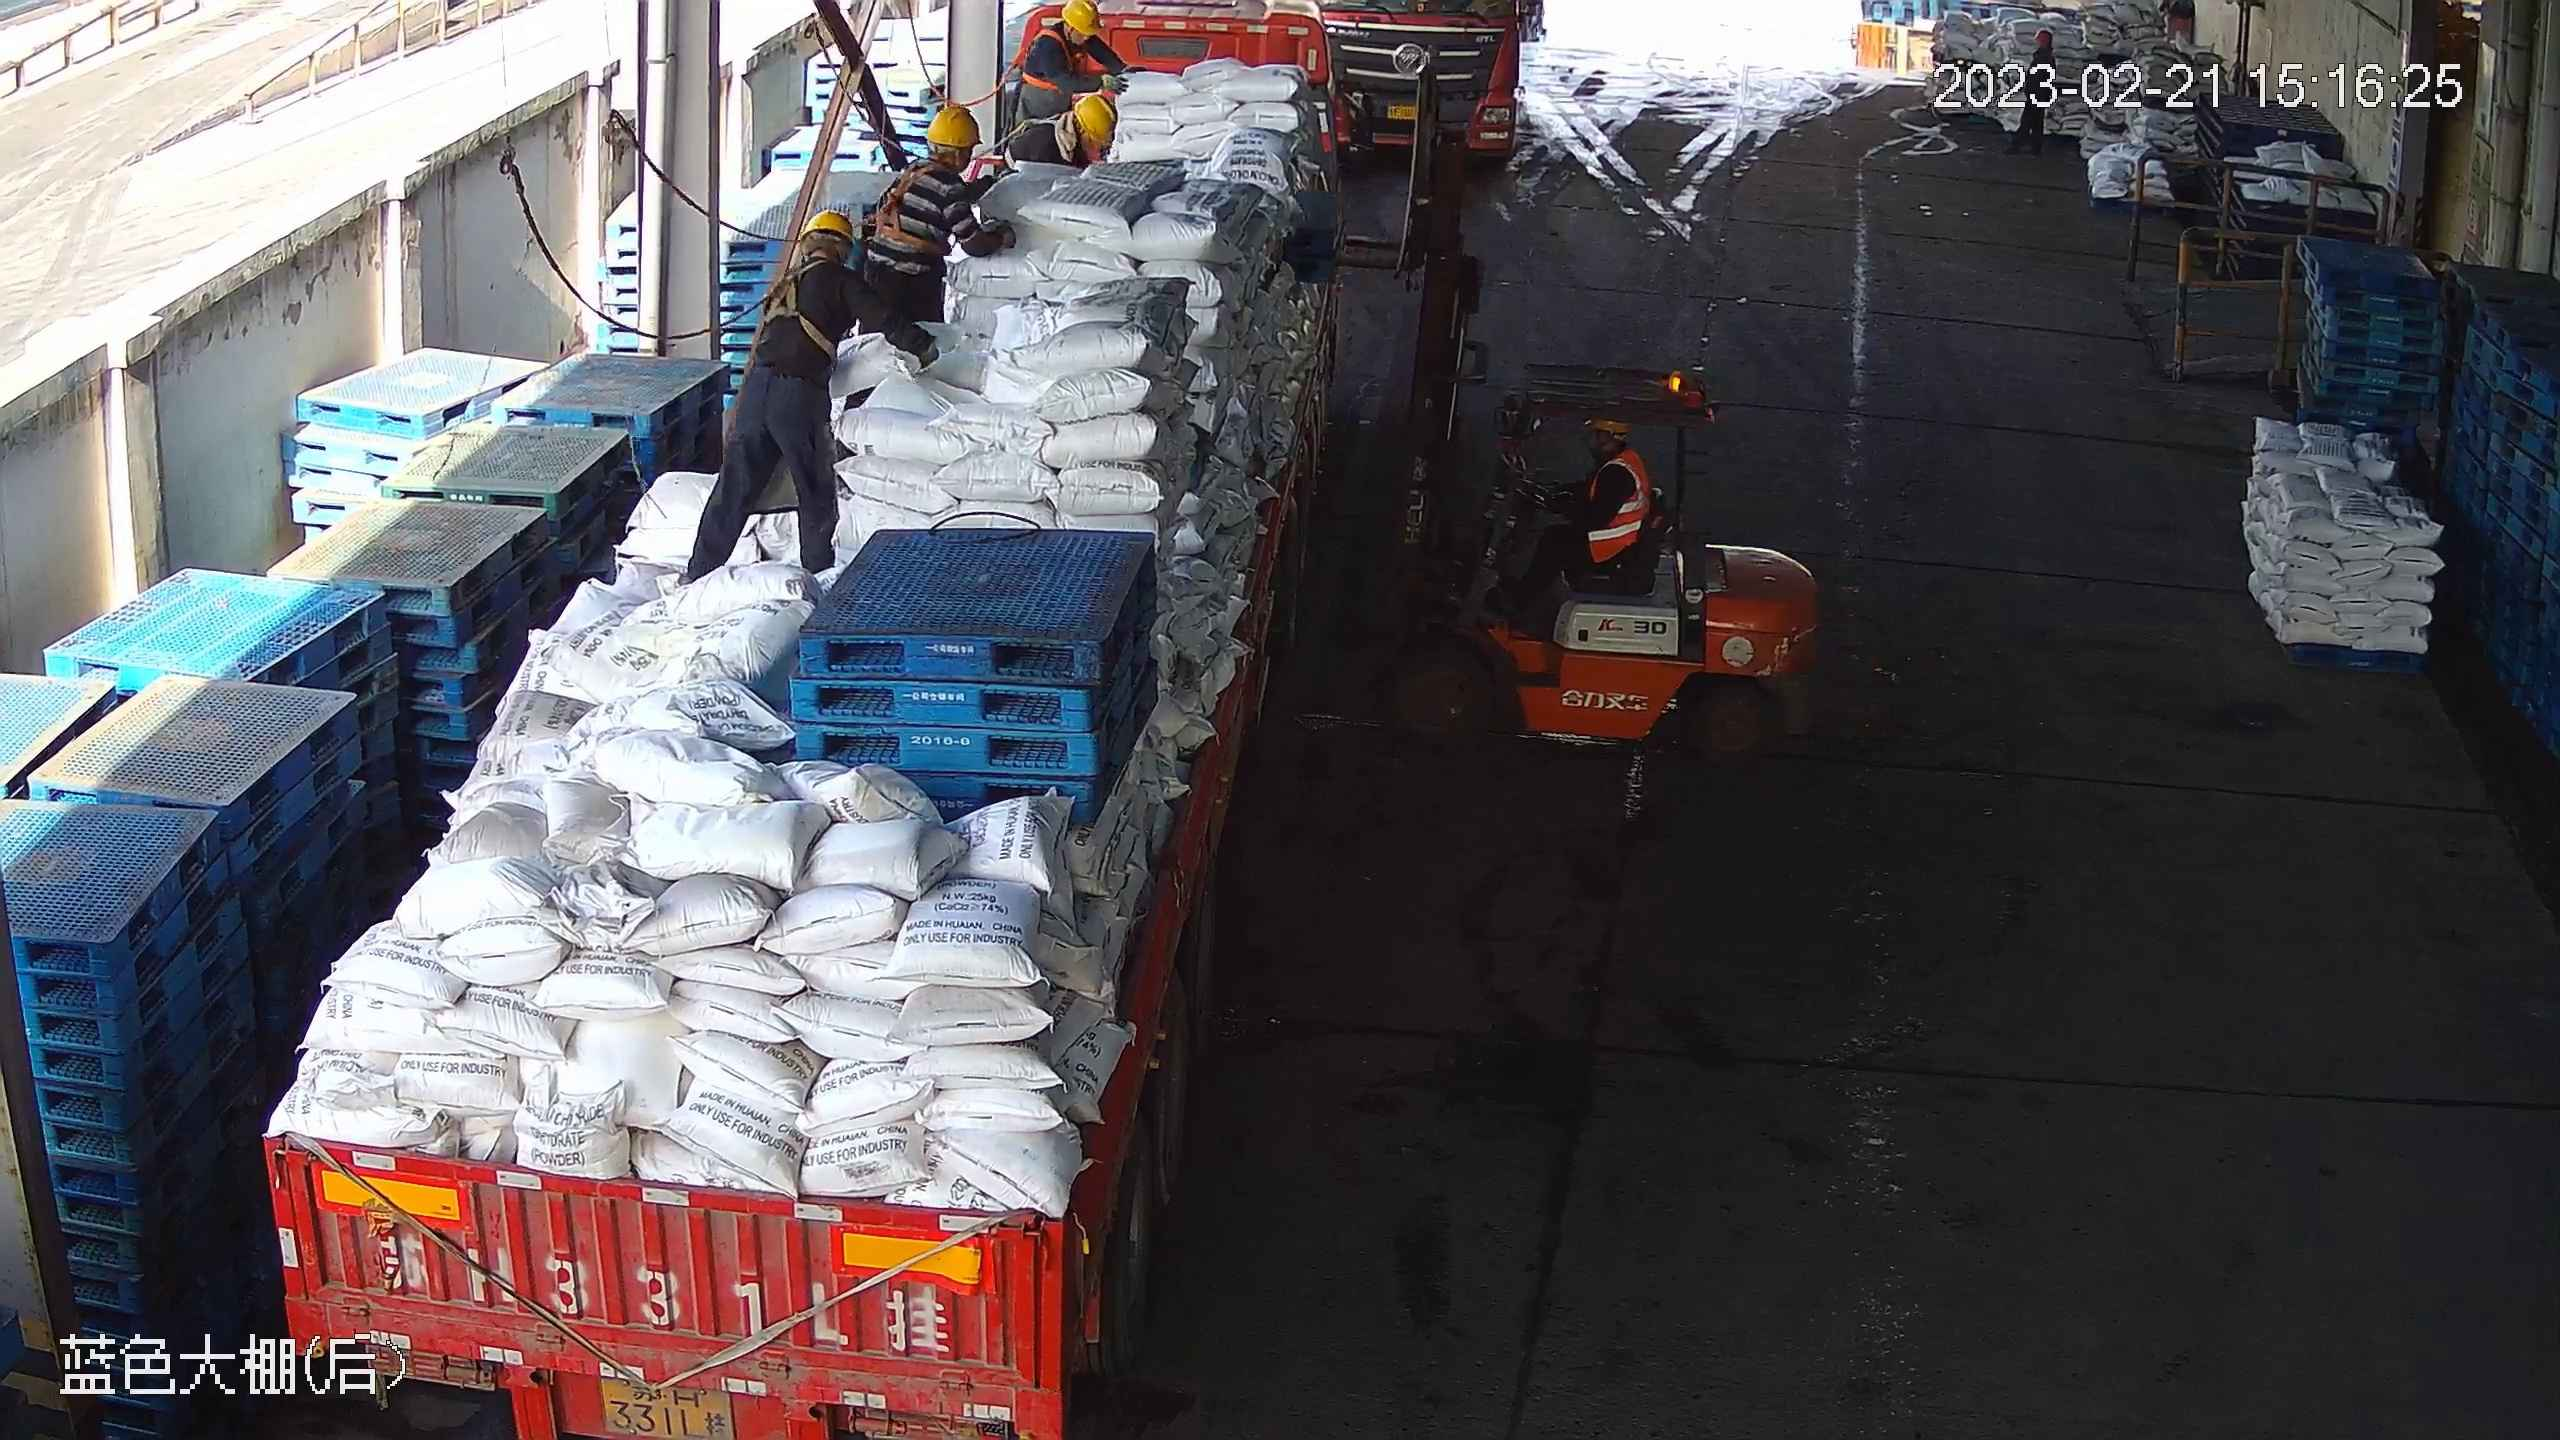belt: (757, 257, 848, 351), (866, 151, 936, 247), (1018, 116, 1070, 158)
head: (735, 214, 886, 327), (877, 97, 990, 214), (1033, 3, 1116, 79), (1583, 403, 1642, 507)
helmet: (925, 105, 999, 155), (1070, 95, 1118, 136), (1051, 1, 1114, 32), (803, 208, 855, 245)
people: (677, 210, 883, 584), (861, 99, 1011, 345), (1507, 405, 1649, 631)
truck: (255, 8, 1335, 1440), (1312, 5, 1568, 190)
